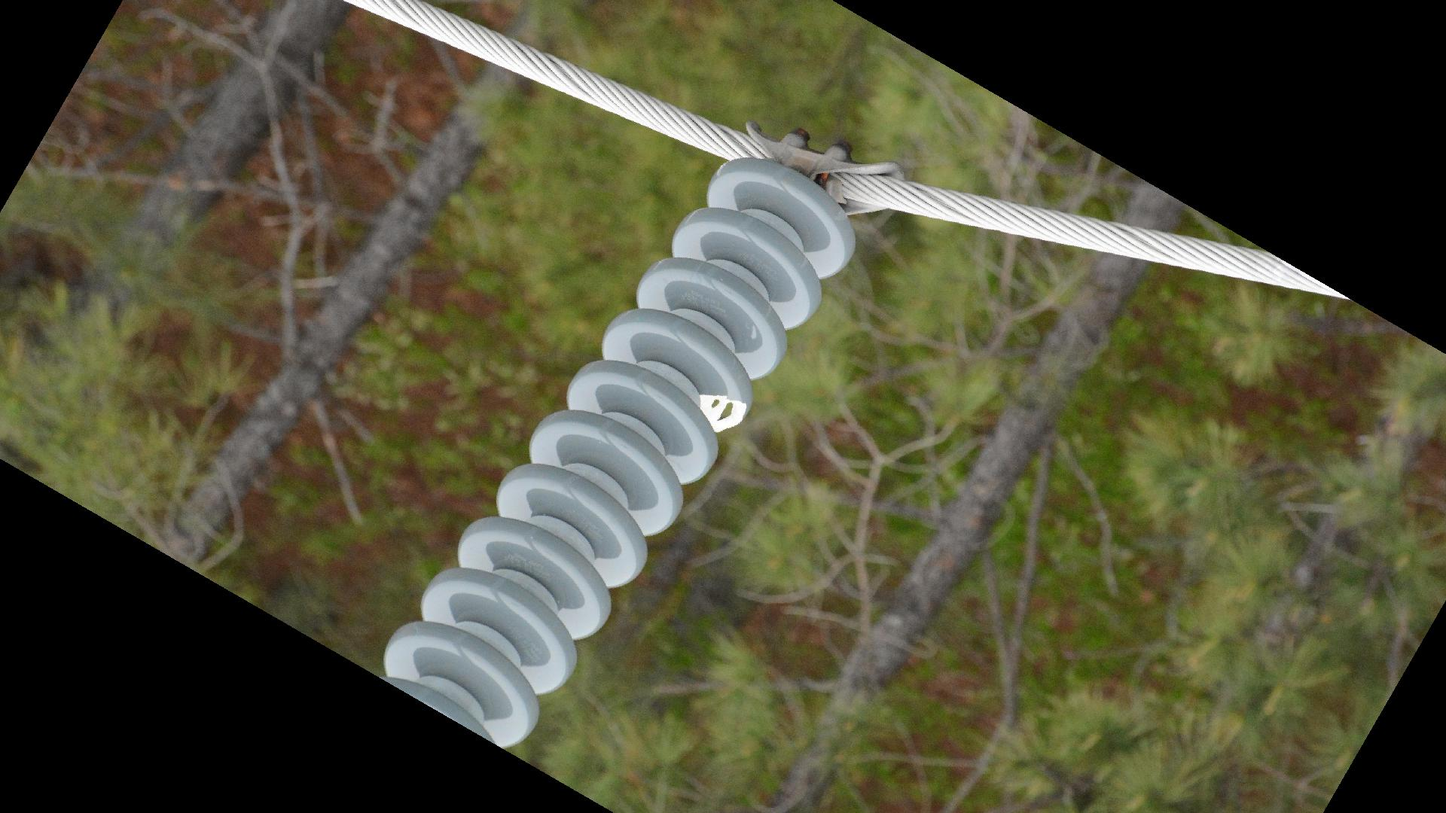insulator: (374, 155, 863, 758)
insulator_breakage: (691, 382, 754, 439)
